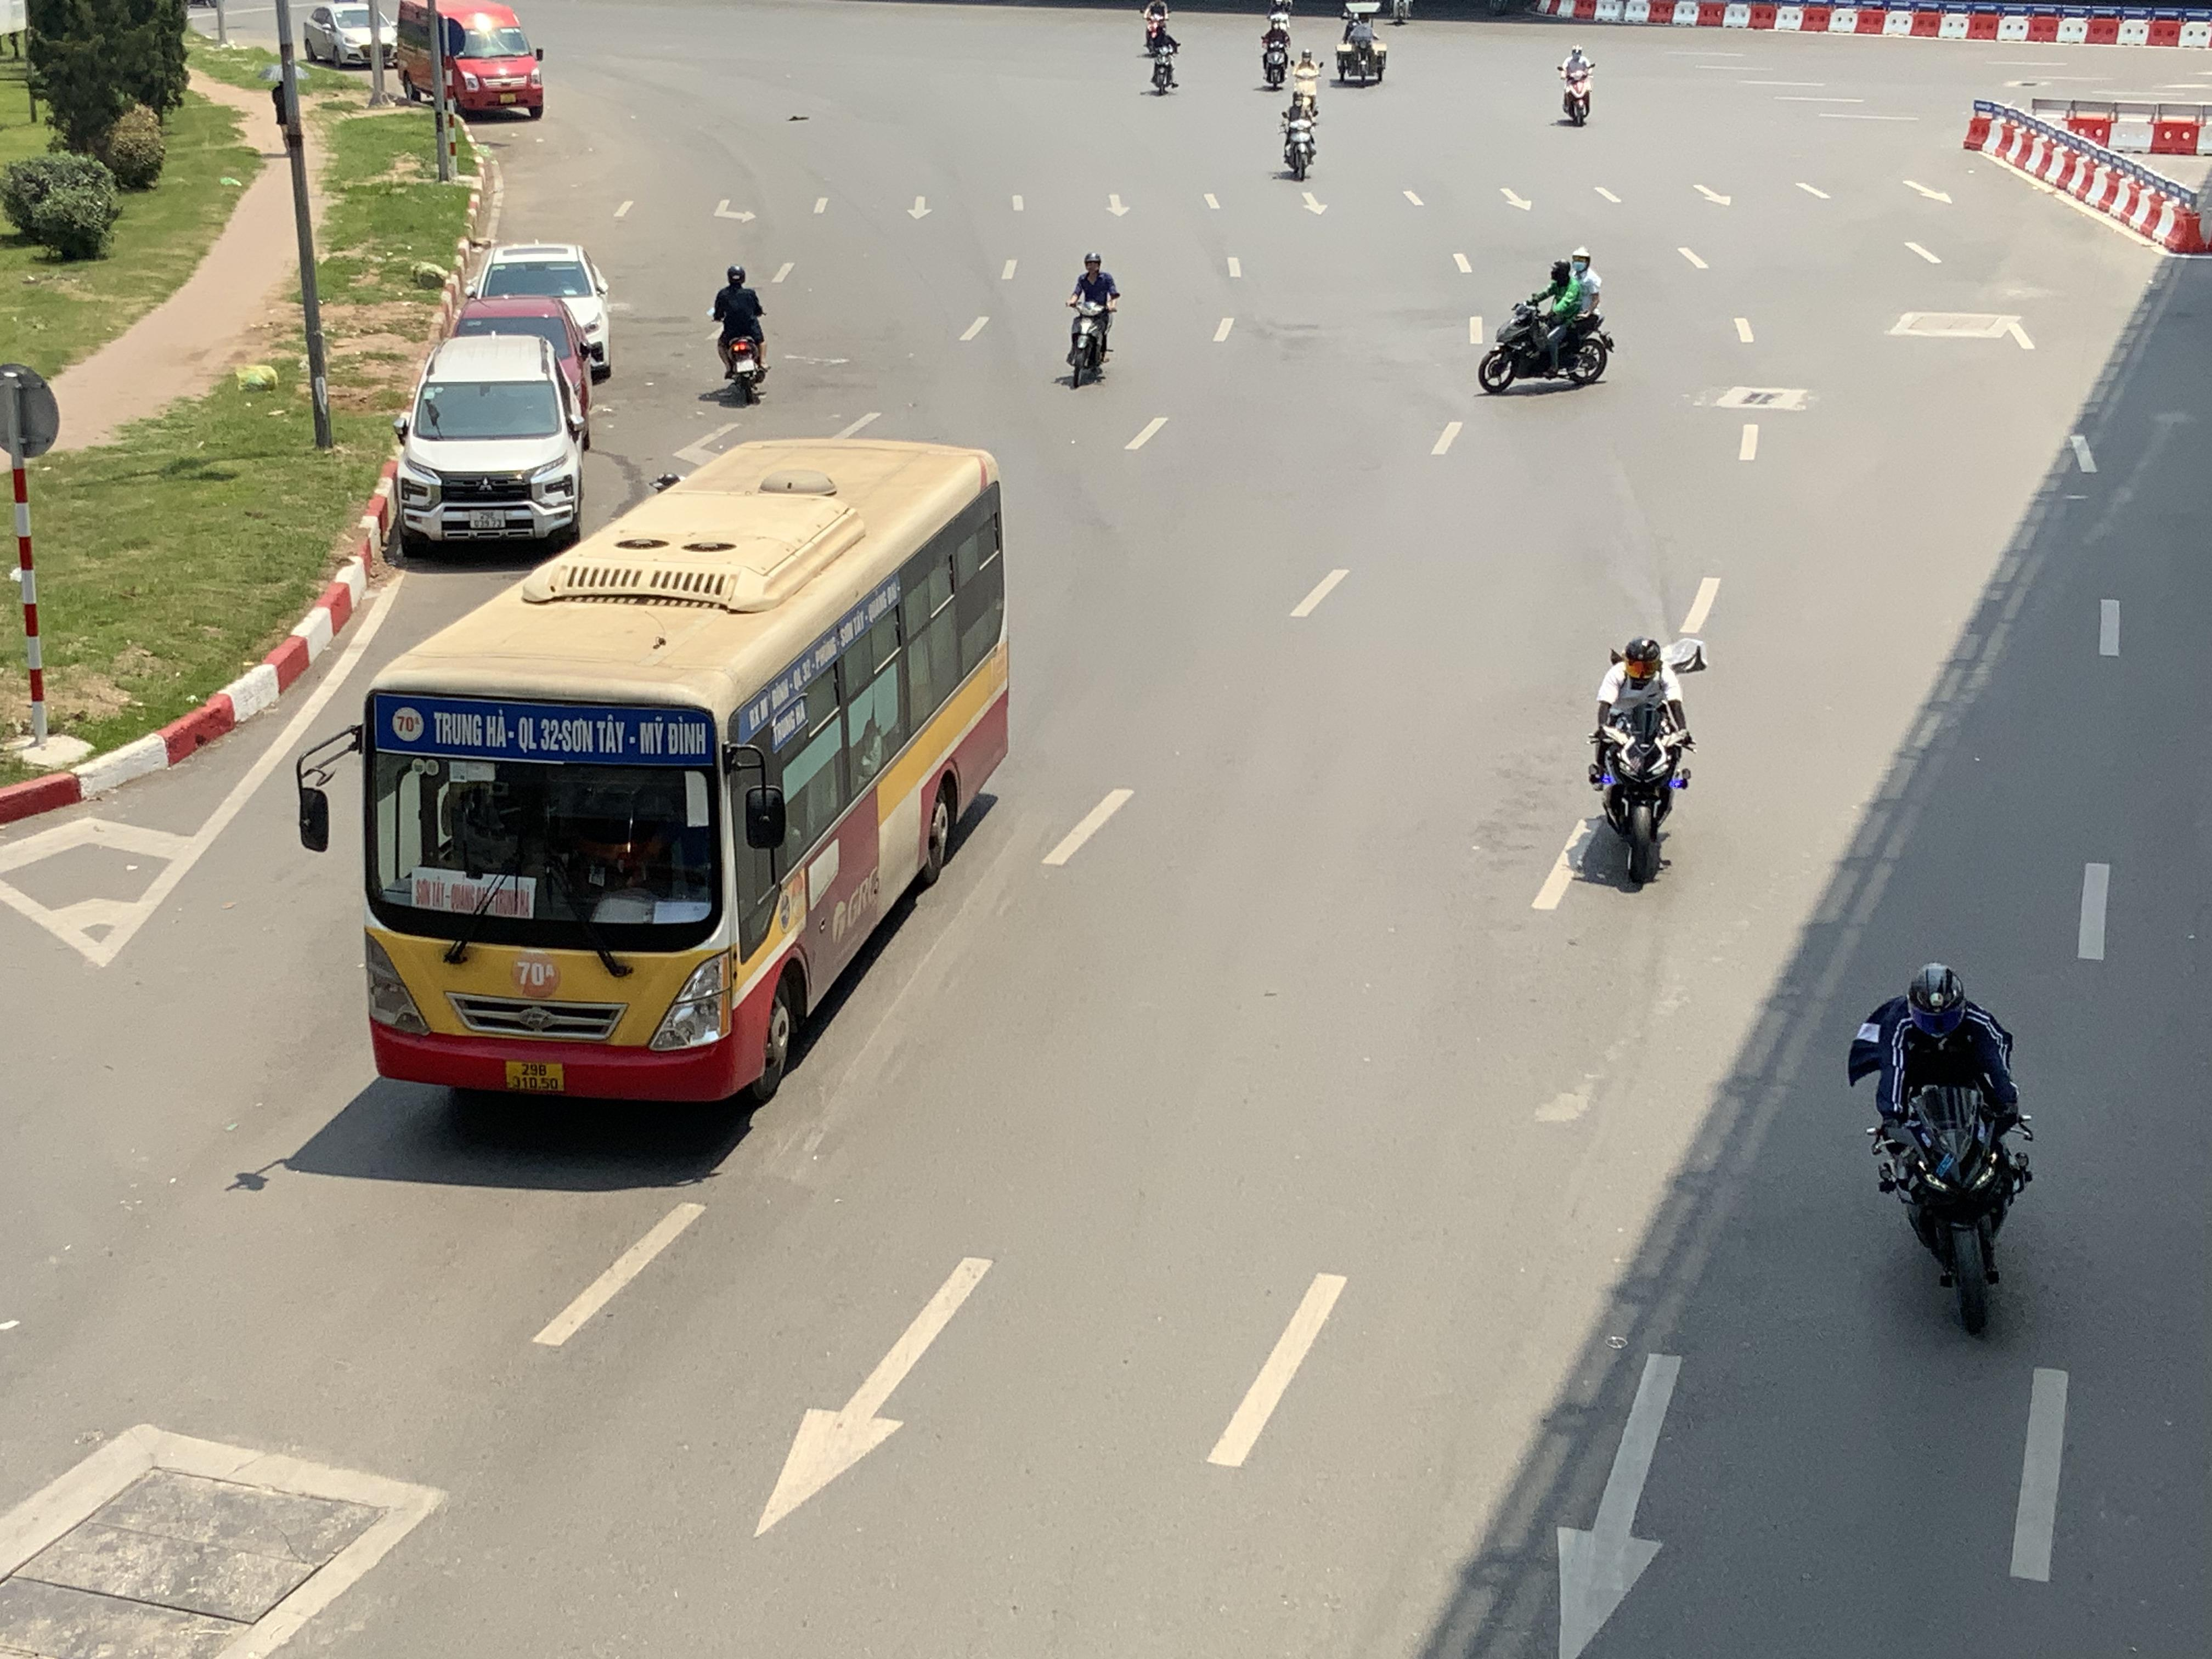BSV: (507, 1060, 563, 1093)
bus: (298, 432, 1012, 1105)
car: (388, 331, 594, 556), (458, 240, 613, 380), (394, 0, 545, 119), (305, 2, 399, 68)
motorbike: (1851, 964, 2033, 1340), (1590, 634, 1696, 892), (1477, 251, 1615, 394), (711, 261, 768, 406), (1061, 251, 1120, 387), (1278, 66, 1320, 179), (1332, 5, 1388, 85), (1144, 3, 1179, 96), (1559, 40, 1594, 127), (1258, 7, 1292, 89)
